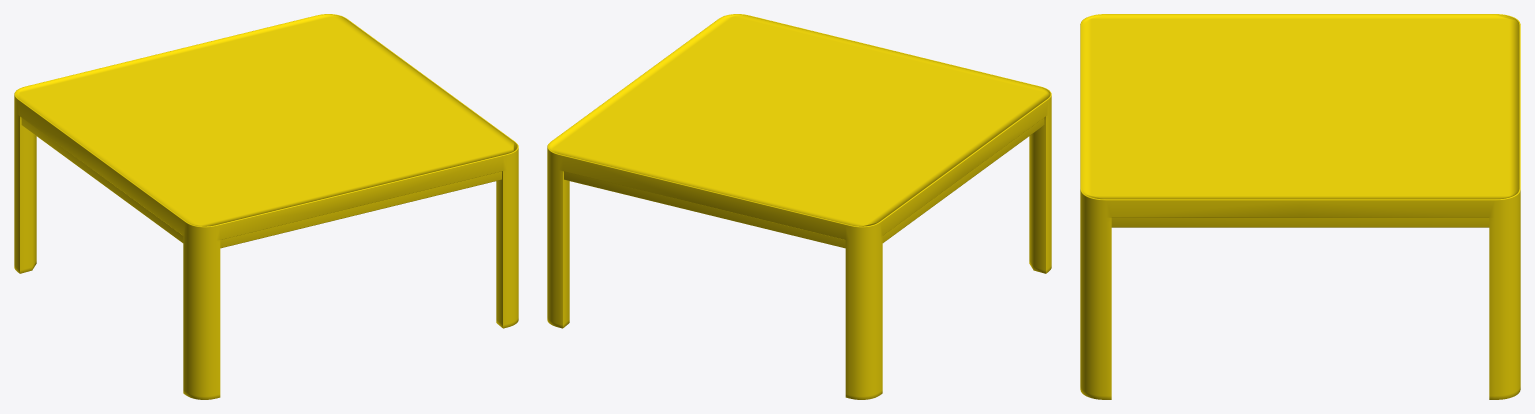
File: masaaltin.fbx
3 renders of one model, left to right at view 1: azimuth 30°, elevation 25°; view 2: azimuth 150°, elevation 25°; view 3: azimuth 270°, elevation 25°, orthographic. The views are drawn at different scales.
Visible parts, largest first — view 1: Cube, Cube.002; view 2: Cube, Cube.002; view 3: Cube, Cube.002.
Boxes of the visible parts, bbox=[...] form: Cube: bbox=[14, 14, 518, 399]; Cube.002: bbox=[21, 118, 501, 248]; Cube: bbox=[547, 14, 1051, 399]; Cube.002: bbox=[564, 118, 1044, 248]; Cube: bbox=[1080, 14, 1520, 399]; Cube.002: bbox=[1111, 218, 1489, 227].
Bounding box in the file's own units: 70 × 35.1 × 70.
